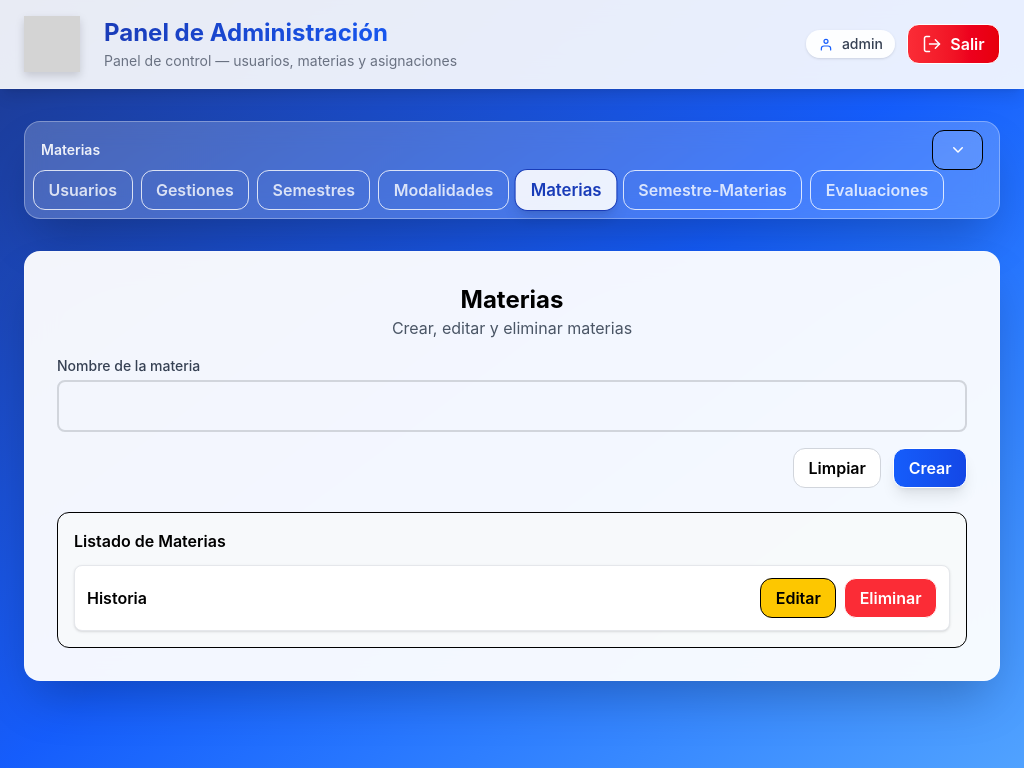
Scenario: E2E - Admin Materias (CRUD) › deletes a materia from the list
The image size is (1024, 768).
Expected: the text "Historia" is shown, left=87, top=588, right=147, bottom=608
Click the button "Eliminar" at (891, 598), box left=844, top=578, right=937, bottom=618
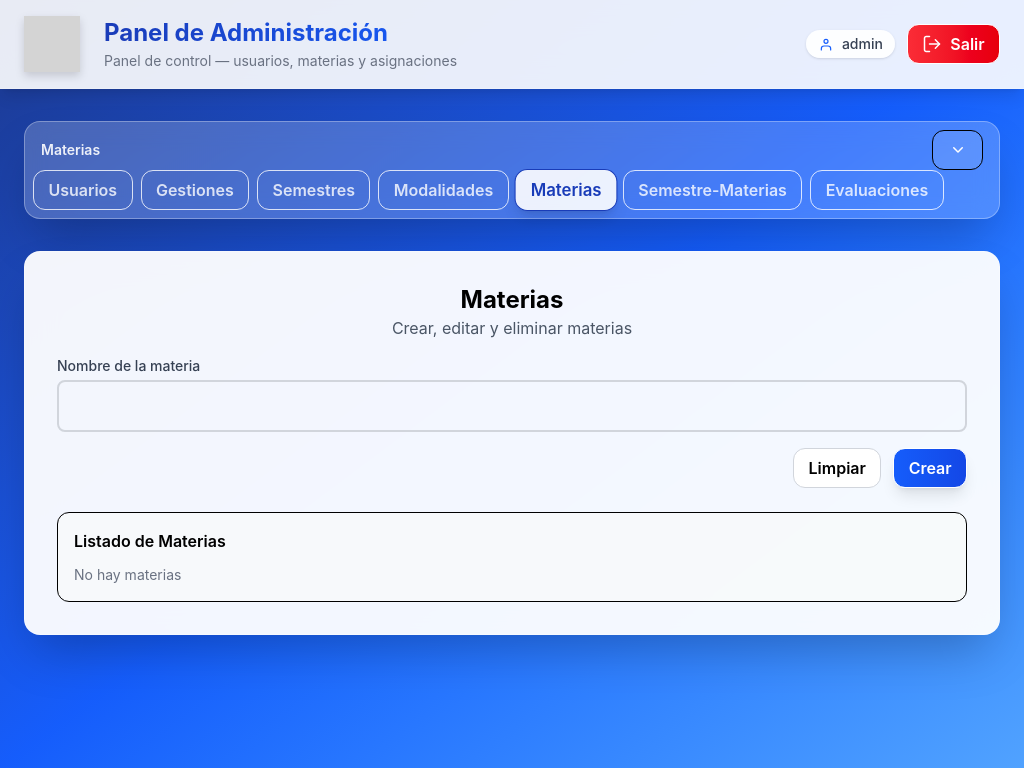
Expected: the text "No hay materias" is shown, left=74, top=566, right=181, bottom=583
